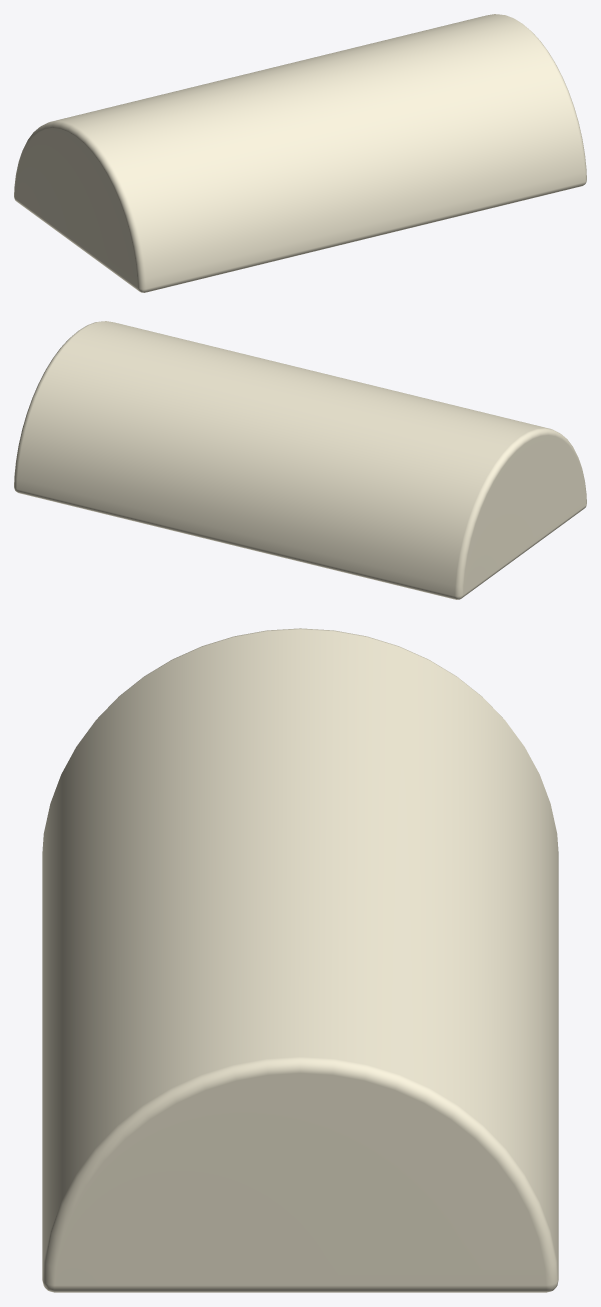
Rendered from AFJ_Rounded_Wall_1Unit.fbx.
3 renders of one model, top to bottom at view 1: azimuth 30°, elevation 25°; view 2: azimuth 150°, elevation 25°; view 3: azimuth 270°, elevation 25°, orthographic. The views are drawn at different scales.
Visible parts, largest first — view 1: Wall_Ground_HalfRound; view 2: Wall_Ground_HalfRound; view 3: Wall_Ground_HalfRound.
Part boxes in pixels (left/top/right/bottom): Wall_Ground_HalfRound: left=14, top=14, right=586, bottom=292; Wall_Ground_HalfRound: left=14, top=321, right=586, bottom=599; Wall_Ground_HalfRound: left=42, top=628, right=558, bottom=1292.
Bounding box in the file's own units: 100 × 25 × 49.84.
